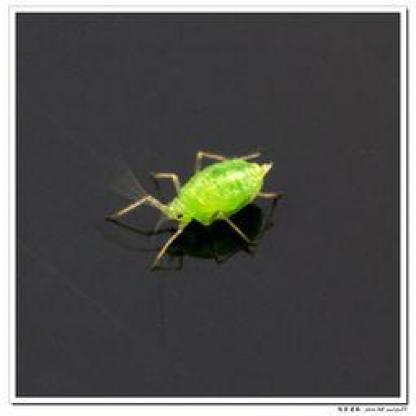aphid: (120, 144, 272, 260)
